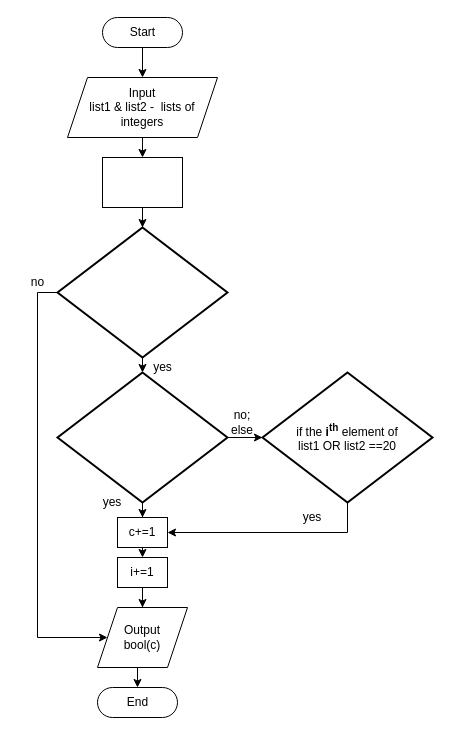
The diagram is 450 pixels wide and 735 high, and some of its shapes have lost their labels. Here are the shapes that lost their labels. From the top down, the box of each, then its label:
(102, 156, 182, 208): i = 0 c = 0
(56, 226, 228, 358): while i < number of elements in list1
(56, 371, 228, 503): if the i th element of list1 and list2 added ==20
